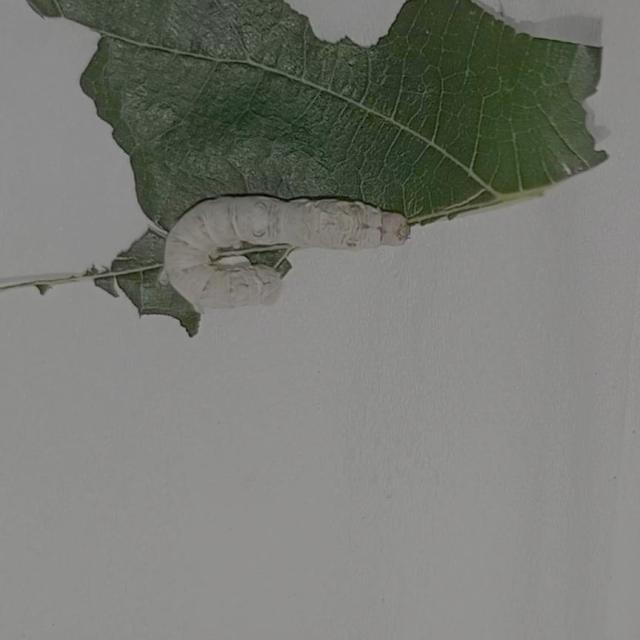Healthy: (140, 173, 428, 340)
